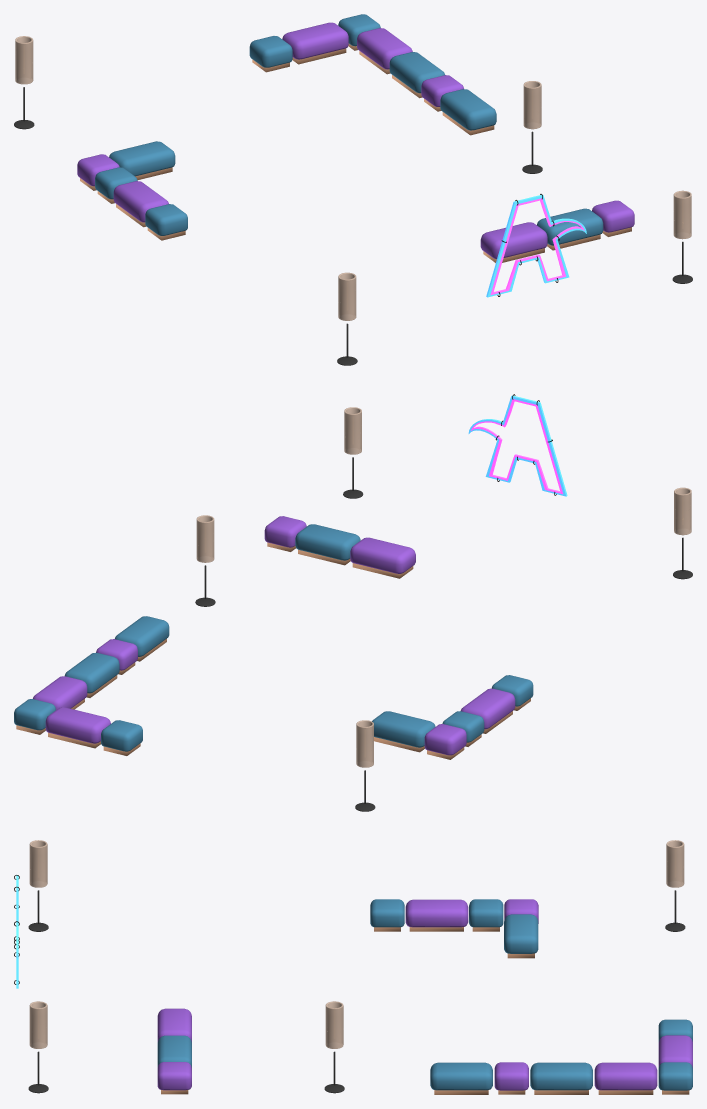
The model's file is d2x3Shape Sampleroom - Deko.glb.
The picture shows the model from 3 angles, top to bottom: view 1: azimuth 30°, elevation 25°; view 2: azimuth 150°, elevation 25°; view 3: azimuth 270°, elevation 25°; orthographic projection.
Visible parts, largest first — view 1: Deko_2x3_Shape.002; view 2: Deko_2x3_Shape.002; view 3: Deko_2x3_Shape.002.
Part boxes in pixels (x1,y1,x2,y2): Deko_2x3_Shape.002: (14, 14, 692, 365); Deko_2x3_Shape.002: (14, 394, 692, 811); Deko_2x3_Shape.002: (14, 840, 692, 1094).
Bounding box in the file's own units: 7.91 × 2.68 × 12.78.
Materials: 7 (1 with a texture image).
